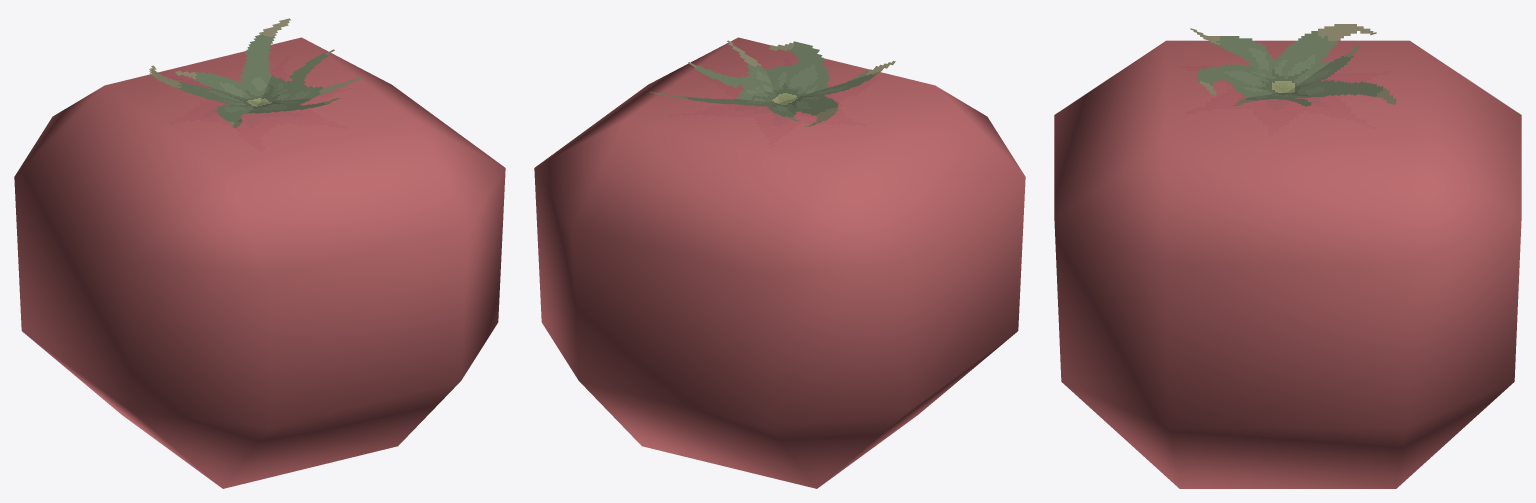
Rendered from 03b4_Tomato.glb.
3 views of the same model, side by side, from view 1: azimuth 30°, elevation 25°; view 2: azimuth 150°, elevation 25°; view 3: azimuth 270°, elevation 25° (orthographic). The views are drawn at different scales.
Parts seen in each view (by area): view 1: part_0; view 2: part_0; view 3: part_0.
Part boxes in pixels (bbox=[...]): part_0: bbox=[14, 18, 505, 488]; part_0: bbox=[534, 37, 1025, 488]; part_0: bbox=[1054, 24, 1521, 488].
Bounding box in the file's own units: 0.0724 × 0.0653 × 0.0724.
1 material, 1 textured.
